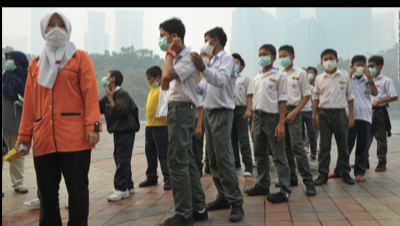mask_weared_incorrect: (146, 75, 157, 88)
with_mask: (44, 18, 68, 47), (159, 31, 172, 52), (322, 55, 337, 71), (258, 51, 272, 67), (278, 53, 291, 69), (5, 56, 18, 71), (204, 36, 214, 55), (353, 62, 365, 76), (199, 52, 210, 67), (368, 62, 378, 77), (102, 73, 111, 89), (307, 70, 314, 80)
